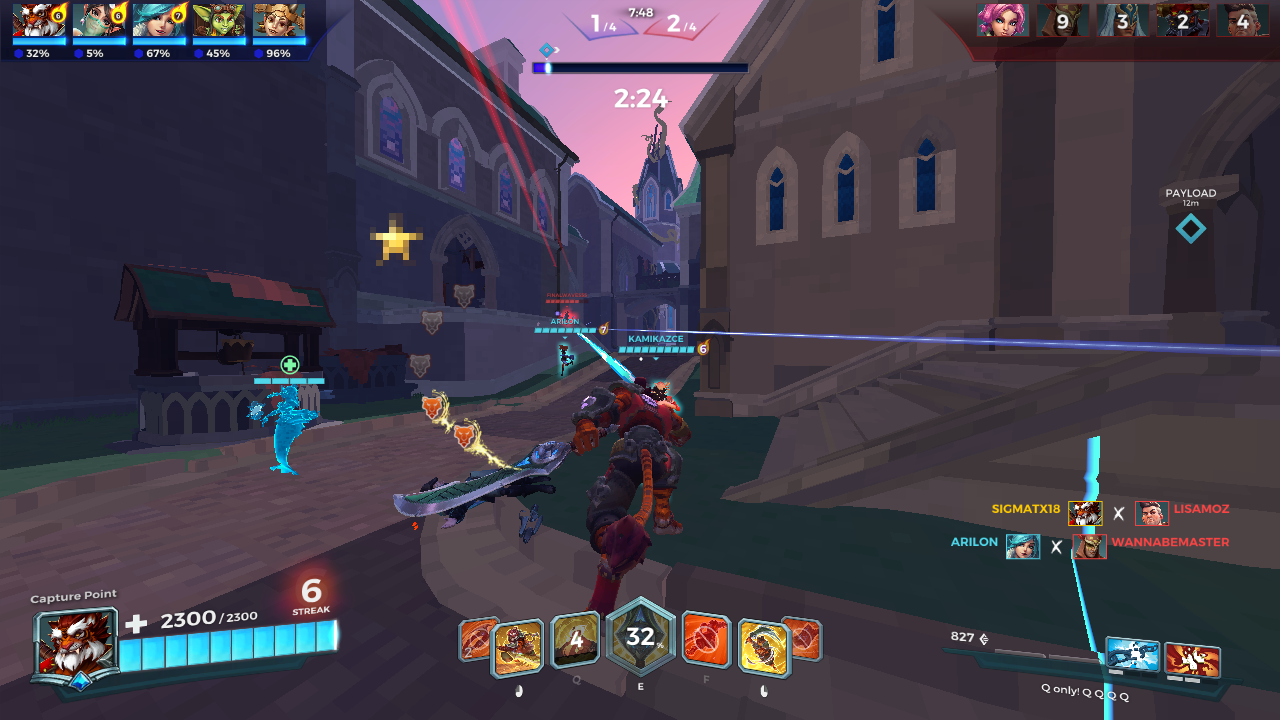model: (556, 299, 574, 331)
